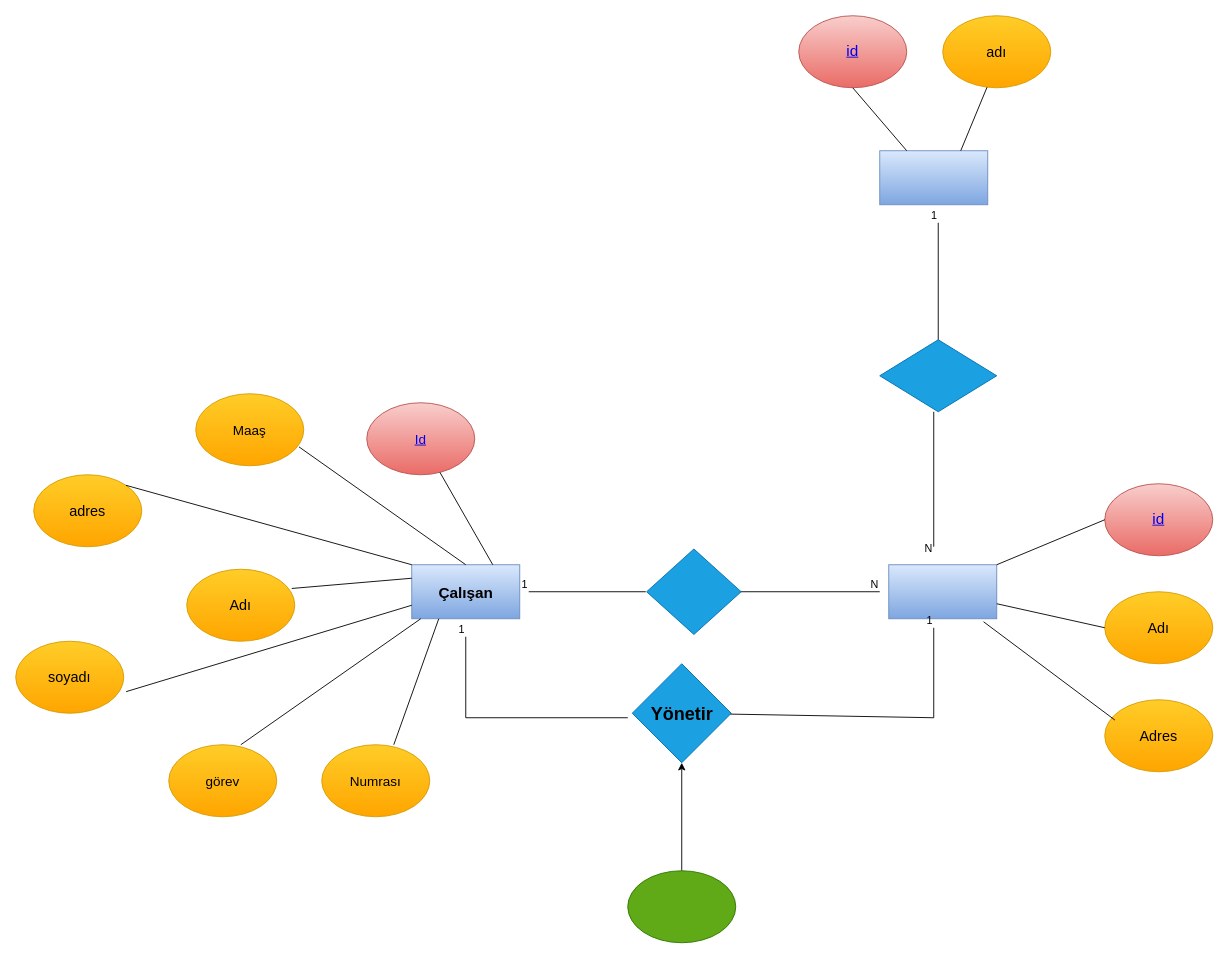
The diagram is 1229 pixels wide and 959 high, and some of its shapes have lost their labels. The centre of each missing label's shape, as x and y in pixels:
"sahiptir" goes at (x=938, y=375).
"Yönetici İd" goes at (x=681, y=906).
"Çalışır" goes at (x=693, y=591).
"Şirket" goes at (x=933, y=177).
"şube" goes at (x=942, y=591).
